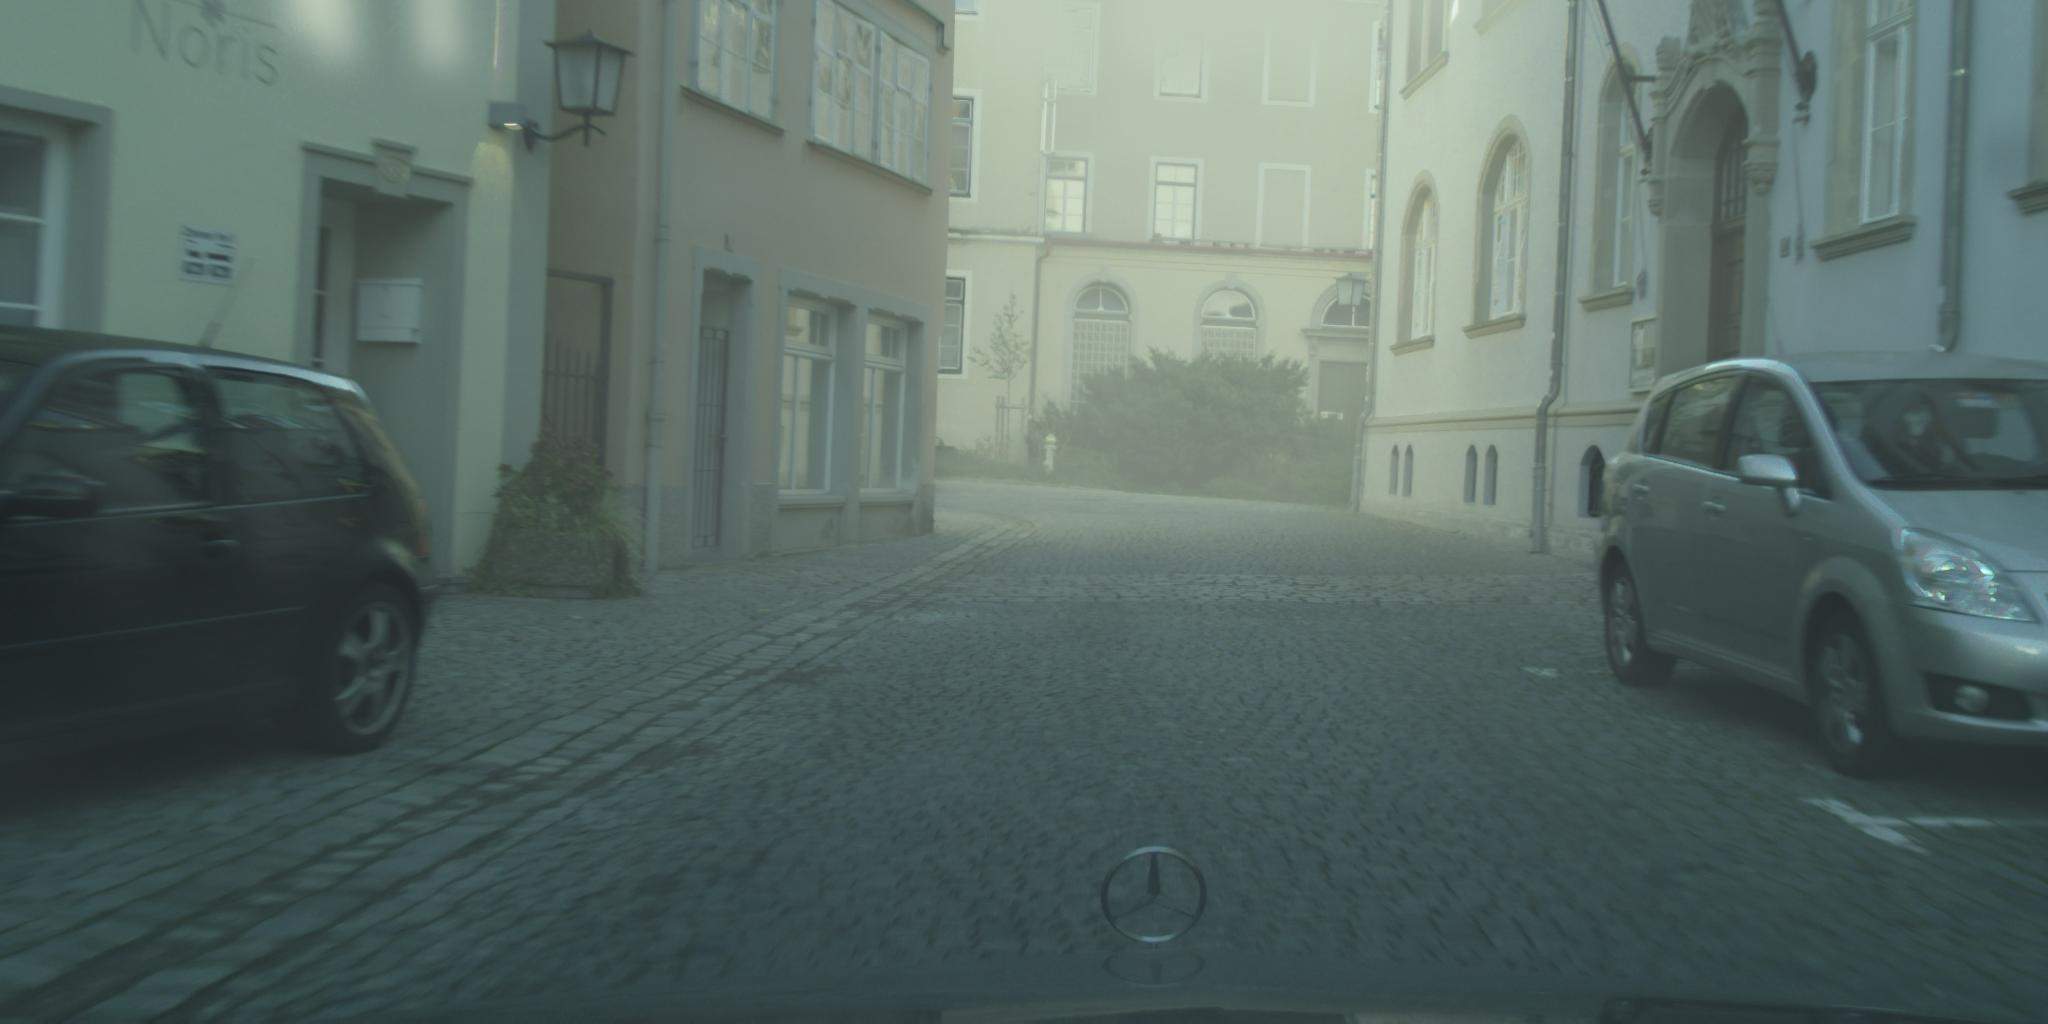car: (1, 259, 438, 771), (1595, 350, 2048, 780)
